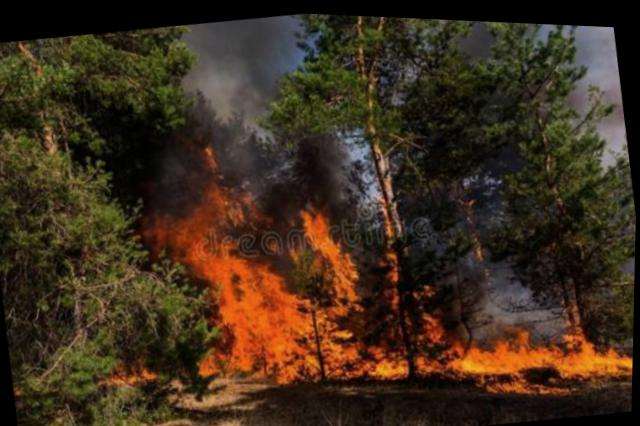fire: (115, 81, 638, 423)
